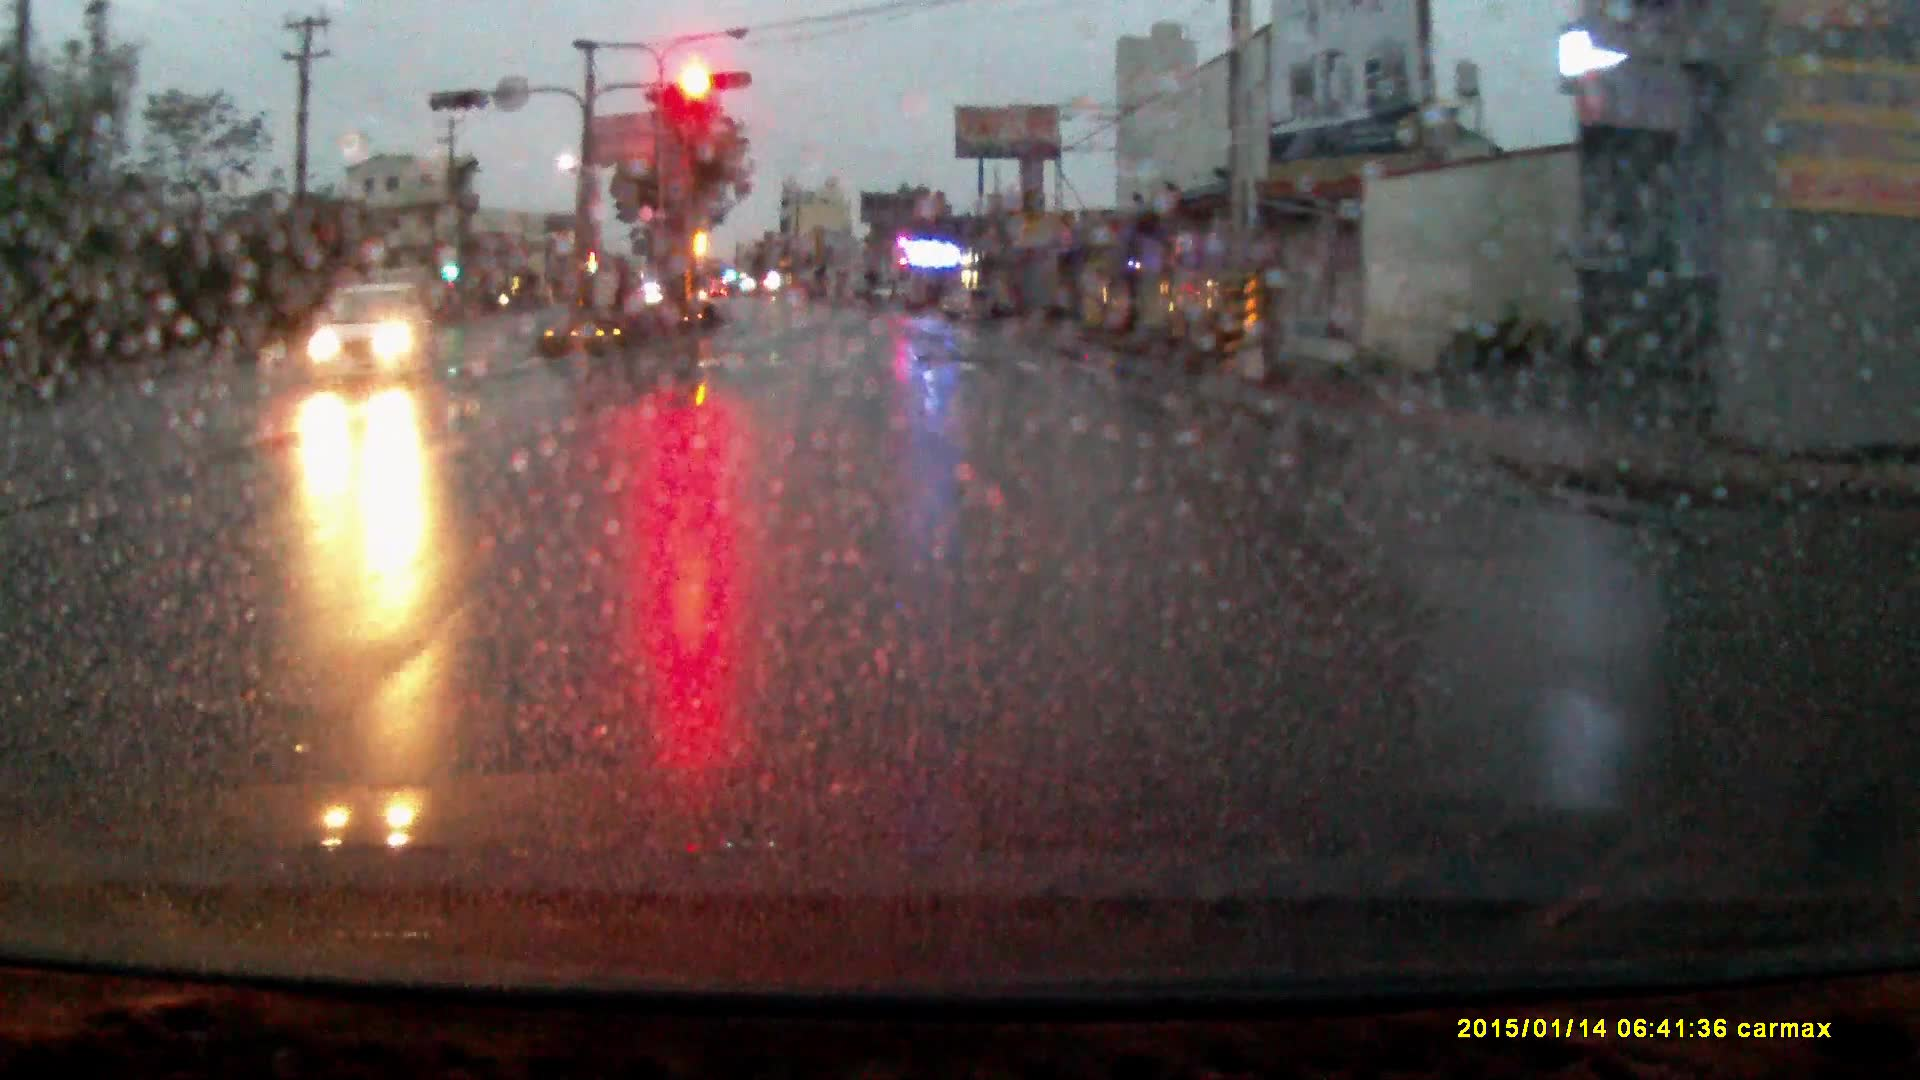vehicle: (305, 287, 433, 396)
